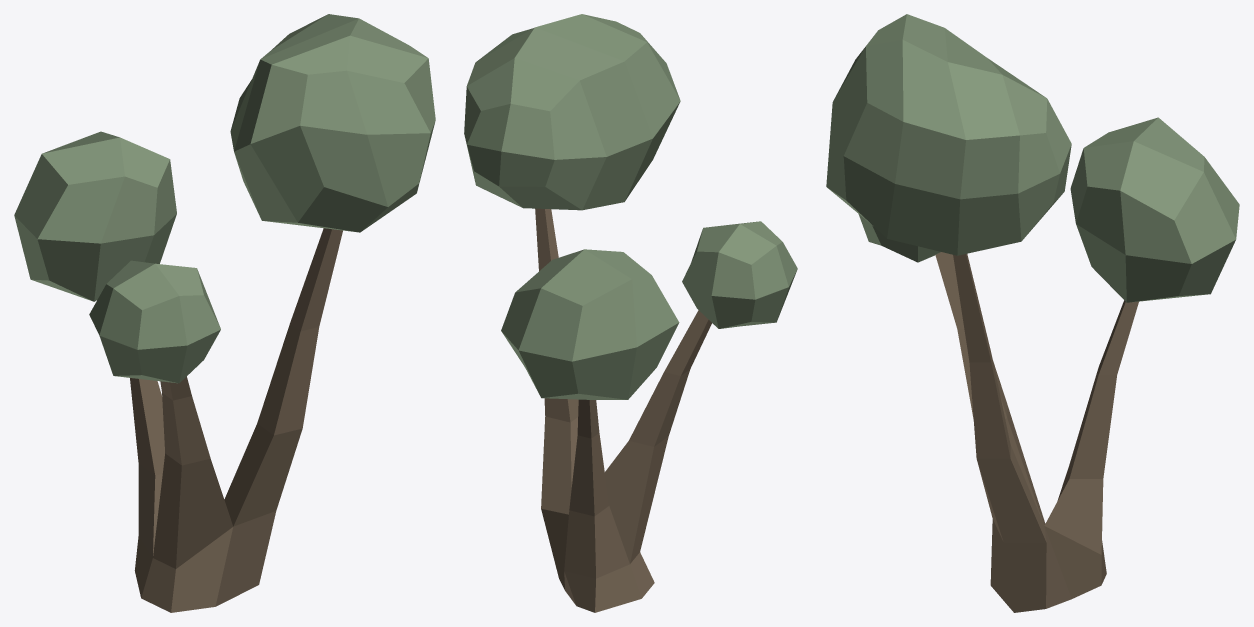
The model's file is ArbusteBlocking1.fbx.
3 views of the same model, side by side, from view 1: azimuth 30°, elevation 25°; view 2: azimuth 150°, elevation 25°; view 3: azimuth 270°, elevation 25° (orthographic). The views are drawn at different scales.
Parts seen in each view (by area): view 1: Shrub1; view 2: Shrub1; view 3: Shrub1.
Boxes of the visible parts, left/top/right/bottom form: Shrub1: left=14, top=14, right=435, bottom=612; Shrub1: left=464, top=14, right=797, bottom=612; Shrub1: left=826, top=14, right=1239, bottom=612.
Bounding box in the file's own units: 448 × 746 × 473.
